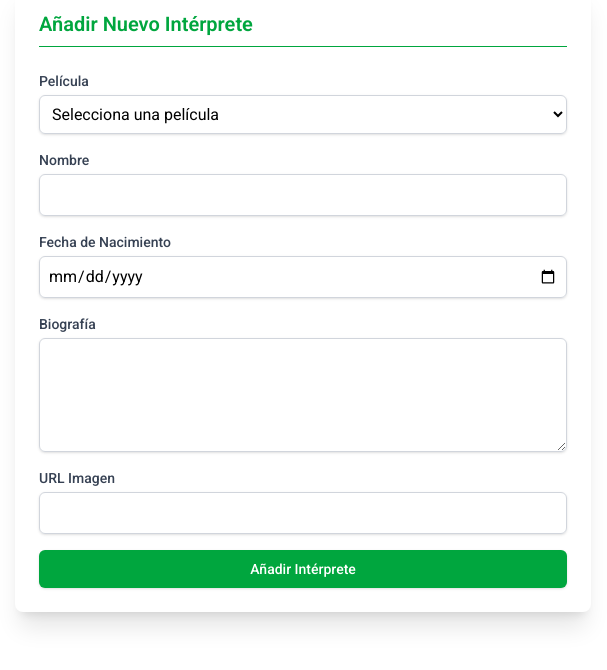
Test: Actividad 4 — Longitud de Biografía en Intérpretes › muestra el error si la biografía tiene menos de 50 caracteres
This screenshot has width=607, height=670.
Select "El sexto sentido" in the dropdown labelled "Película" at (303, 114), box top-left (39, 95), bottom-right (567, 134)
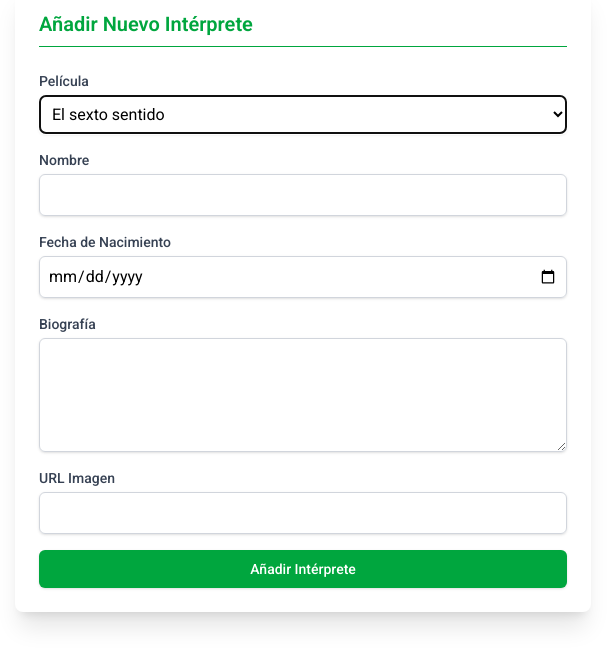
Type "Antonio Banderas" into the field labelled "Nombre" at (303, 195), box top-left (39, 174), bottom-right (567, 216)
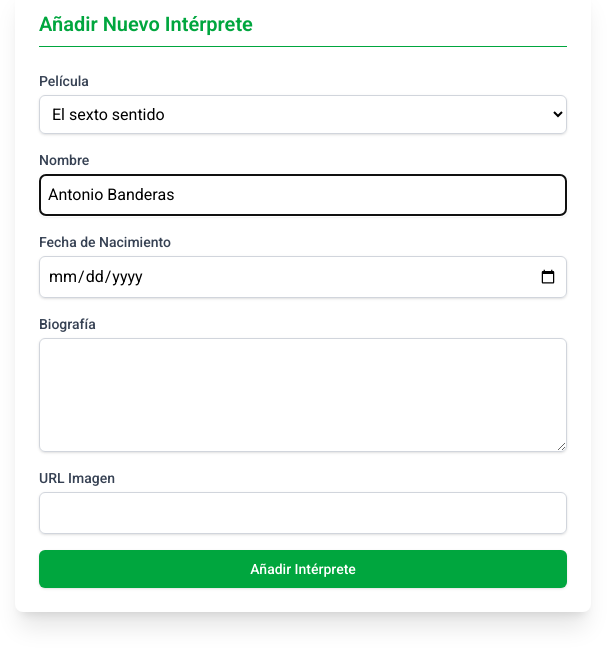
Type "Biografía demasiado corta para validar." into the text box labelled "Biografía" at (303, 395), box top-left (39, 338), bottom-right (567, 452)
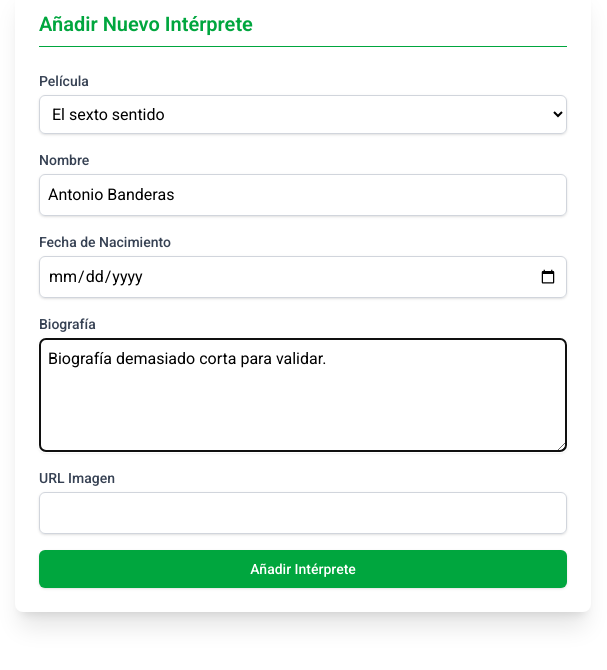
Type "http://BanderasAntonio.com/foto.jpg" into the field labelled "URL Imagen" at (303, 513), box top-left (39, 492), bottom-right (567, 534)
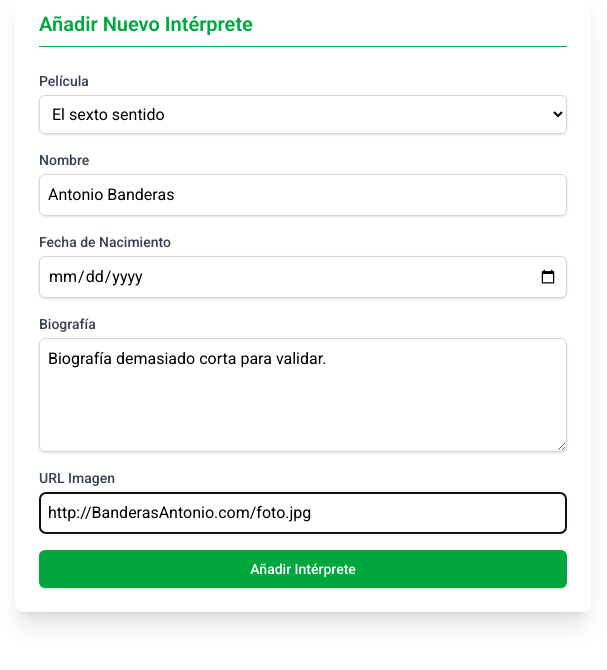
Click the button "Añadir Intérprete" at (303, 569), box top-left (39, 550), bottom-right (567, 588)
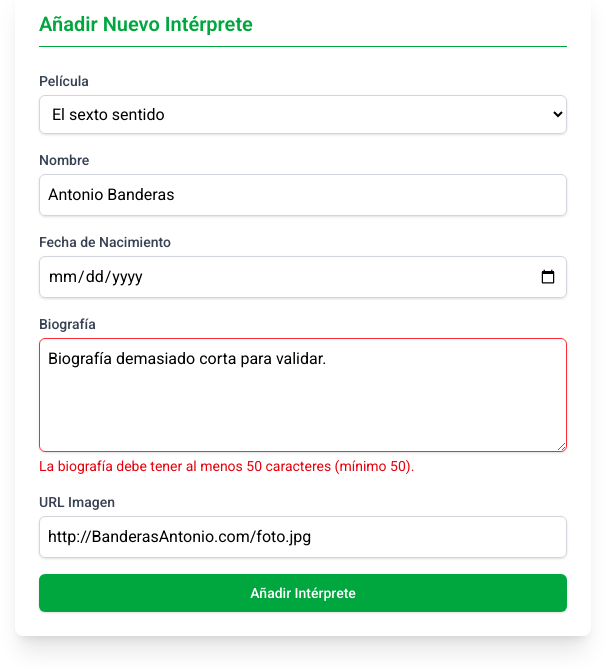
Now the text "La biografía debe tener al menos 50 caracteres (mínimo 50)." is shown, box top-left (39, 458), bottom-right (414, 474)
